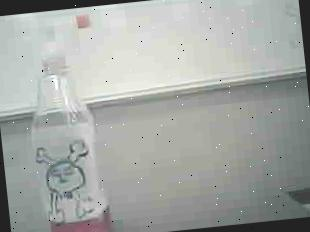hazard: (14, 9, 121, 232)
